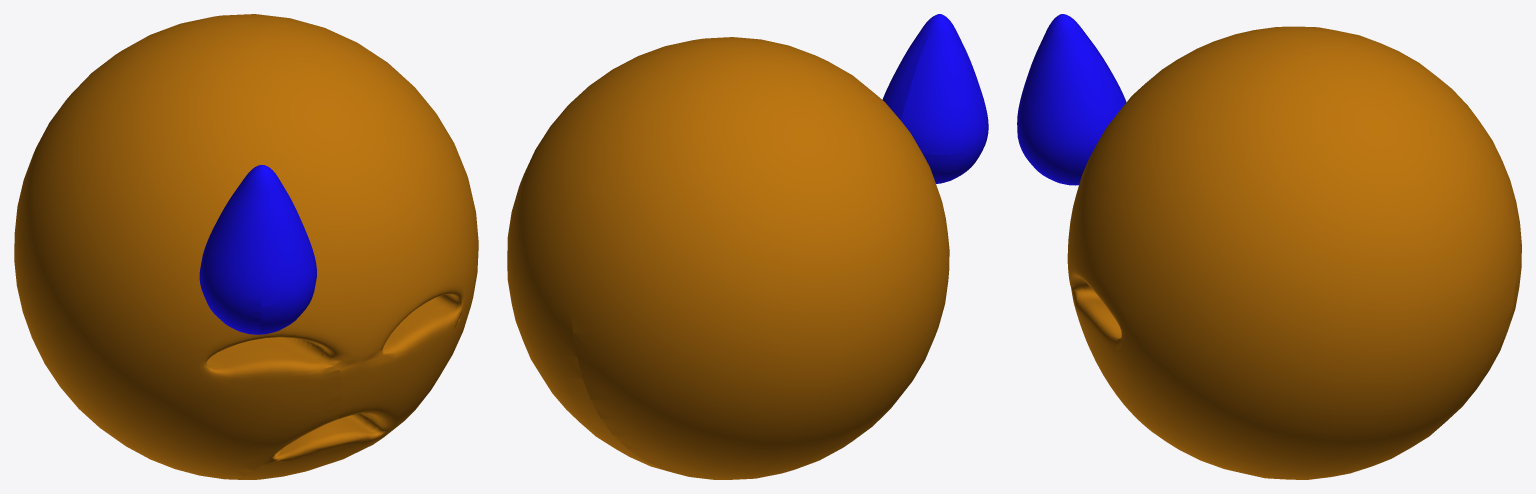
Rendered from dissapointed relieved.obj.
3 views of the same model, side by side, from view 1: azimuth 30°, elevation 25°; view 2: azimuth 150°, elevation 25°; view 3: azimuth 270°, elevation 25° (orthographic). The views are drawn at different scales.
Parts seen in each view (by area): view 1: Group64891, Group33367; view 2: Group64891, Group33367; view 3: Group64891, Group33367.
Boxes of the visible parts, x1=… form: Group64891: x1=14, y1=14, x2=478, y2=479; Group33367: x1=199, y1=165, x2=316, y2=334; Group64891: x1=507, y1=37, x2=949, y2=479; Group33367: x1=882, y1=14, x2=988, y2=183; Group64891: x1=1067, y1=26, x2=1521, y2=479; Group33367: x1=1017, y1=14, x2=1126, y2=185.
Bounding box in the file's own units: 23.57 × 23.65 × 26.24.
